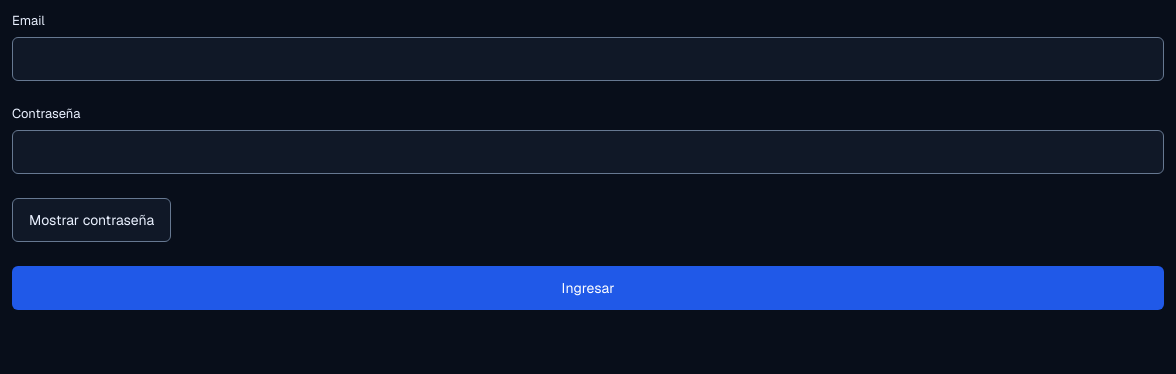
Test case: approved accessible login states › labels inputs, preserves password privacy and supports keyboard submission
Type "member@example.invalid" into the field labelled "Email" at x=588, y=59, box x1=12 y1=37 x2=1164 y2=81
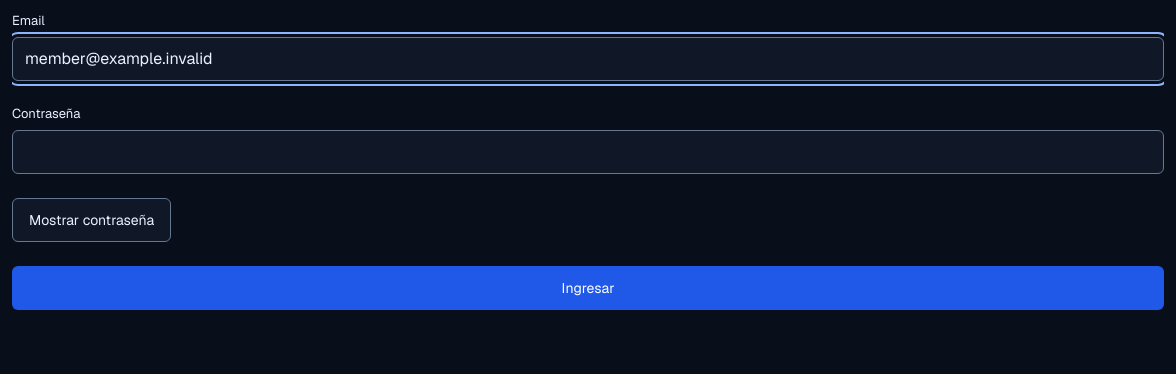
Type "synthetic" into the password field labelled "Contraseña" at x=588, y=152, box x1=12 y1=130 x2=1164 y2=174
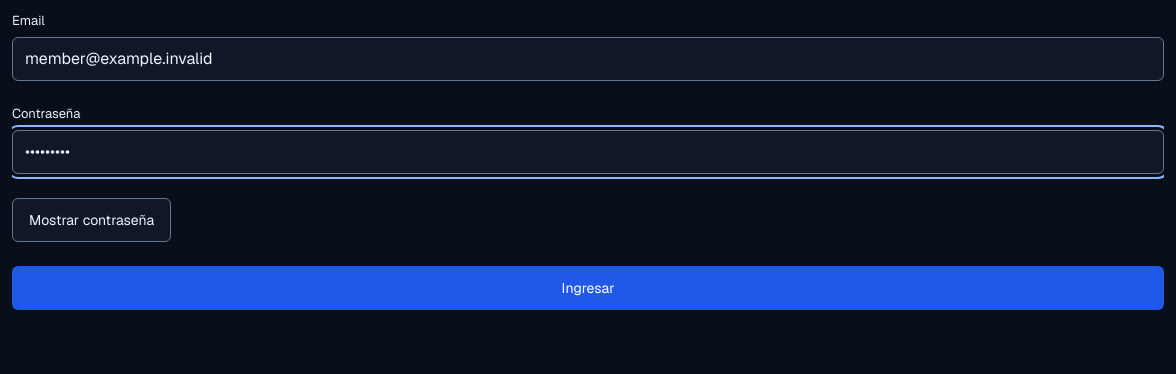
Press Enter
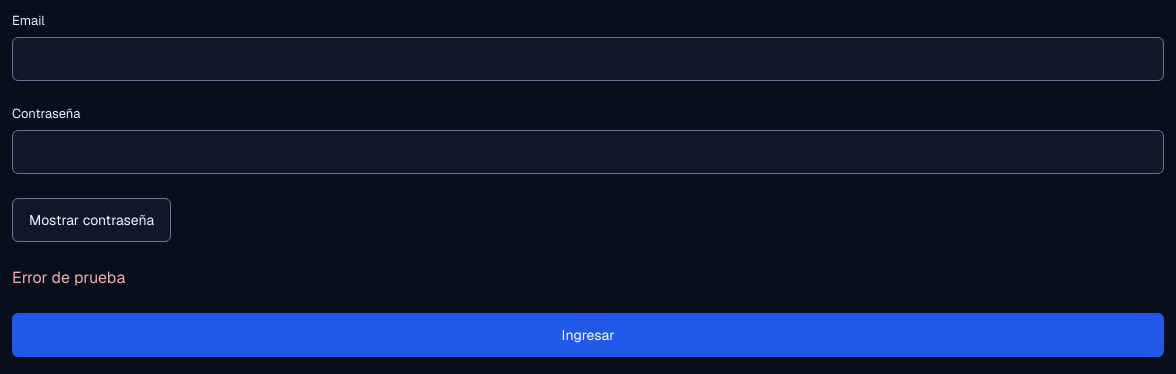
Check: the button "Ingresar" is enabled, box x1=12 y1=313 x2=1164 y2=357
Check: the message reads "Error de prueba", box x1=12 y1=267 x2=125 y2=288
